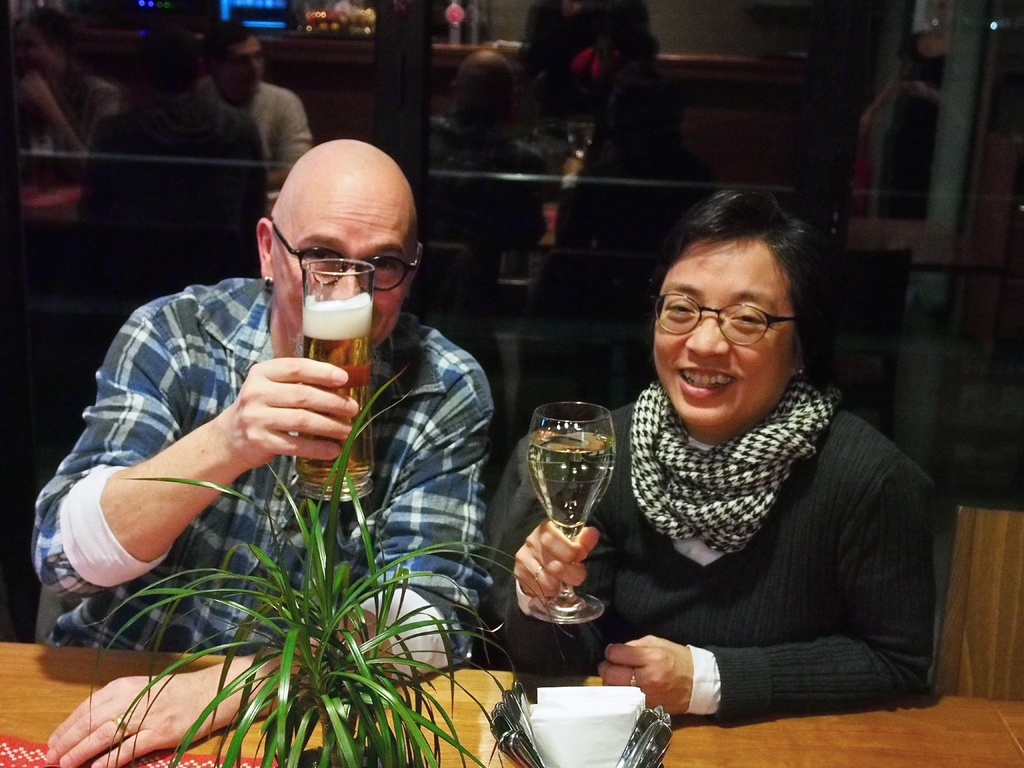Beer: (517, 392, 616, 643), (294, 255, 386, 516)
